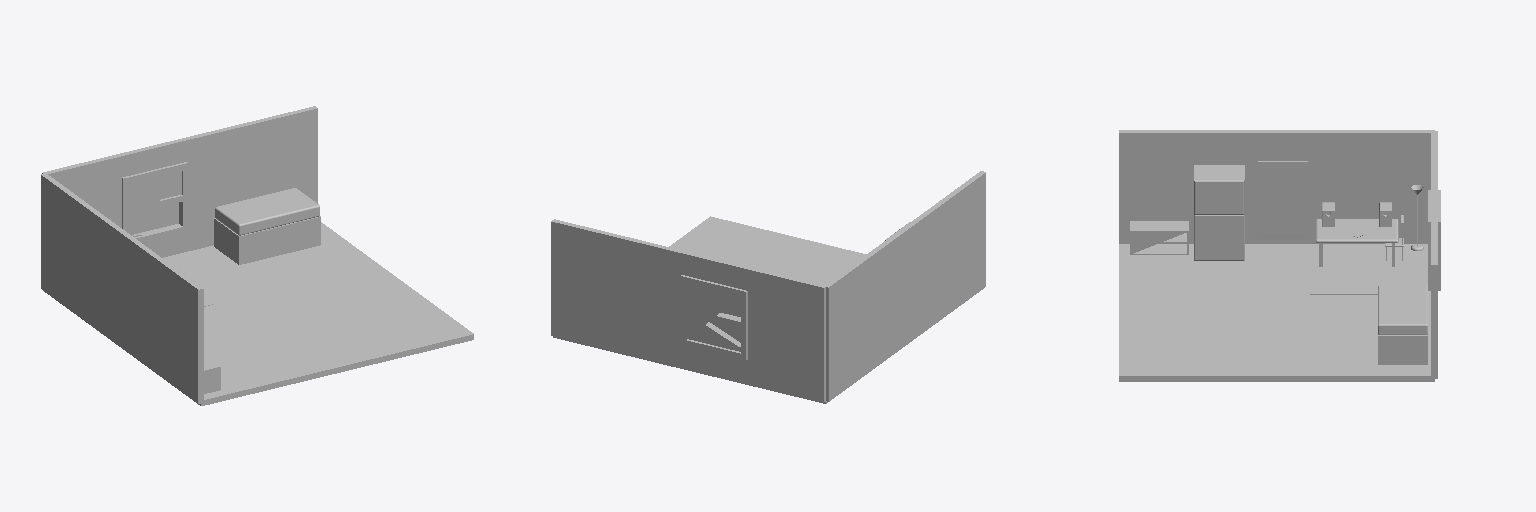
File: jqc9_lab2.obj
3 renders of one model, left to right at view 1: azimuth 30°, elevation 25°; view 2: azimuth 150°, elevation 25°; view 3: azimuth 270°, elevation 25°, orthographic.
Parts seen in each view (by area): view 1: Floor, Wall, Wall2, WindowTrim, BedBase, BedBase.001; view 2: Wall2, Wall, Floor, WindowTrim; view 3: Floor, Wall, Plane, BedBase.001, Fridge, Carpet, Freezer, Shoe Base, Tabletop, Wall2, BedBase, Border (+3 smaller).
Part boxes in pixels (bbox=[...]): Floor: bbox=[45, 222, 473, 405]; Wall: bbox=[41, 174, 203, 403]; Wall2: bbox=[42, 106, 317, 257]; WindowTrim: bbox=[122, 162, 188, 242]; BedBase: bbox=[214, 216, 320, 264]; BedBase.001: bbox=[215, 188, 319, 235]; Wall2: bbox=[551, 219, 826, 401]; Wall: bbox=[824, 171, 985, 401]; Floor: bbox=[553, 216, 982, 403]; WindowTrim: bbox=[681, 275, 747, 359]; Floor: bbox=[1119, 244, 1434, 381]; Wall: bbox=[1119, 130, 1434, 243]; Plane: bbox=[1260, 166, 1305, 234]; BedBase.001: bbox=[1378, 285, 1427, 334]; Fridge: bbox=[1194, 215, 1244, 260]; Carpet: bbox=[1310, 268, 1403, 294]; Freezer: bbox=[1194, 178, 1244, 214]; Shoe Base: bbox=[1130, 221, 1188, 254]; Tabletop: bbox=[1316, 219, 1398, 242]; Wall2: bbox=[1431, 131, 1437, 378]; BedBase: bbox=[1378, 335, 1427, 364]; Border: bbox=[1258, 161, 1307, 238].
Size of the model in its own units: 10.1 by 4.1 by 10.2.